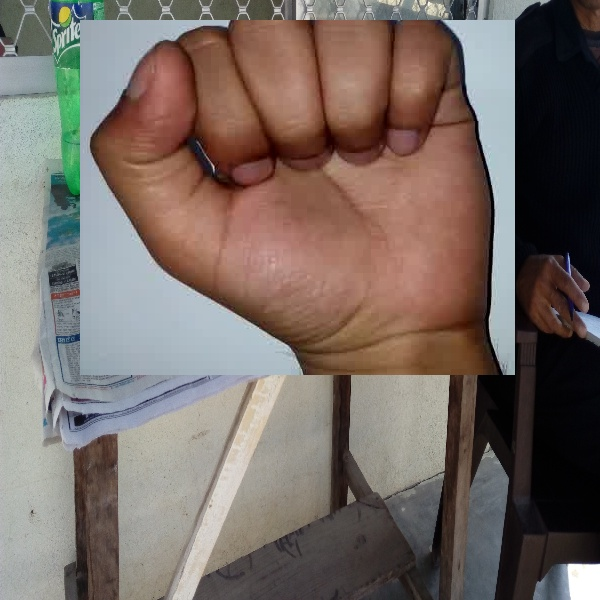A: (80, 20, 515, 375)
